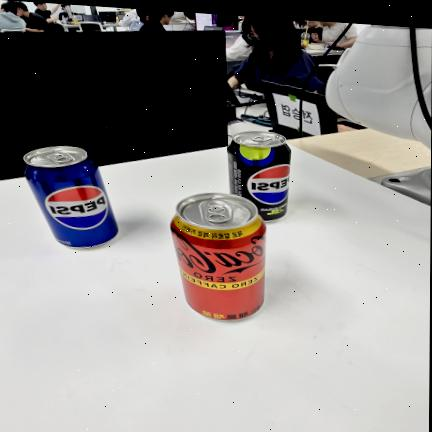can_coke_decaf: (168, 191, 266, 326)
can_pepsi: (20, 146, 121, 252)
can_pepsi_zero: (226, 129, 292, 224)
